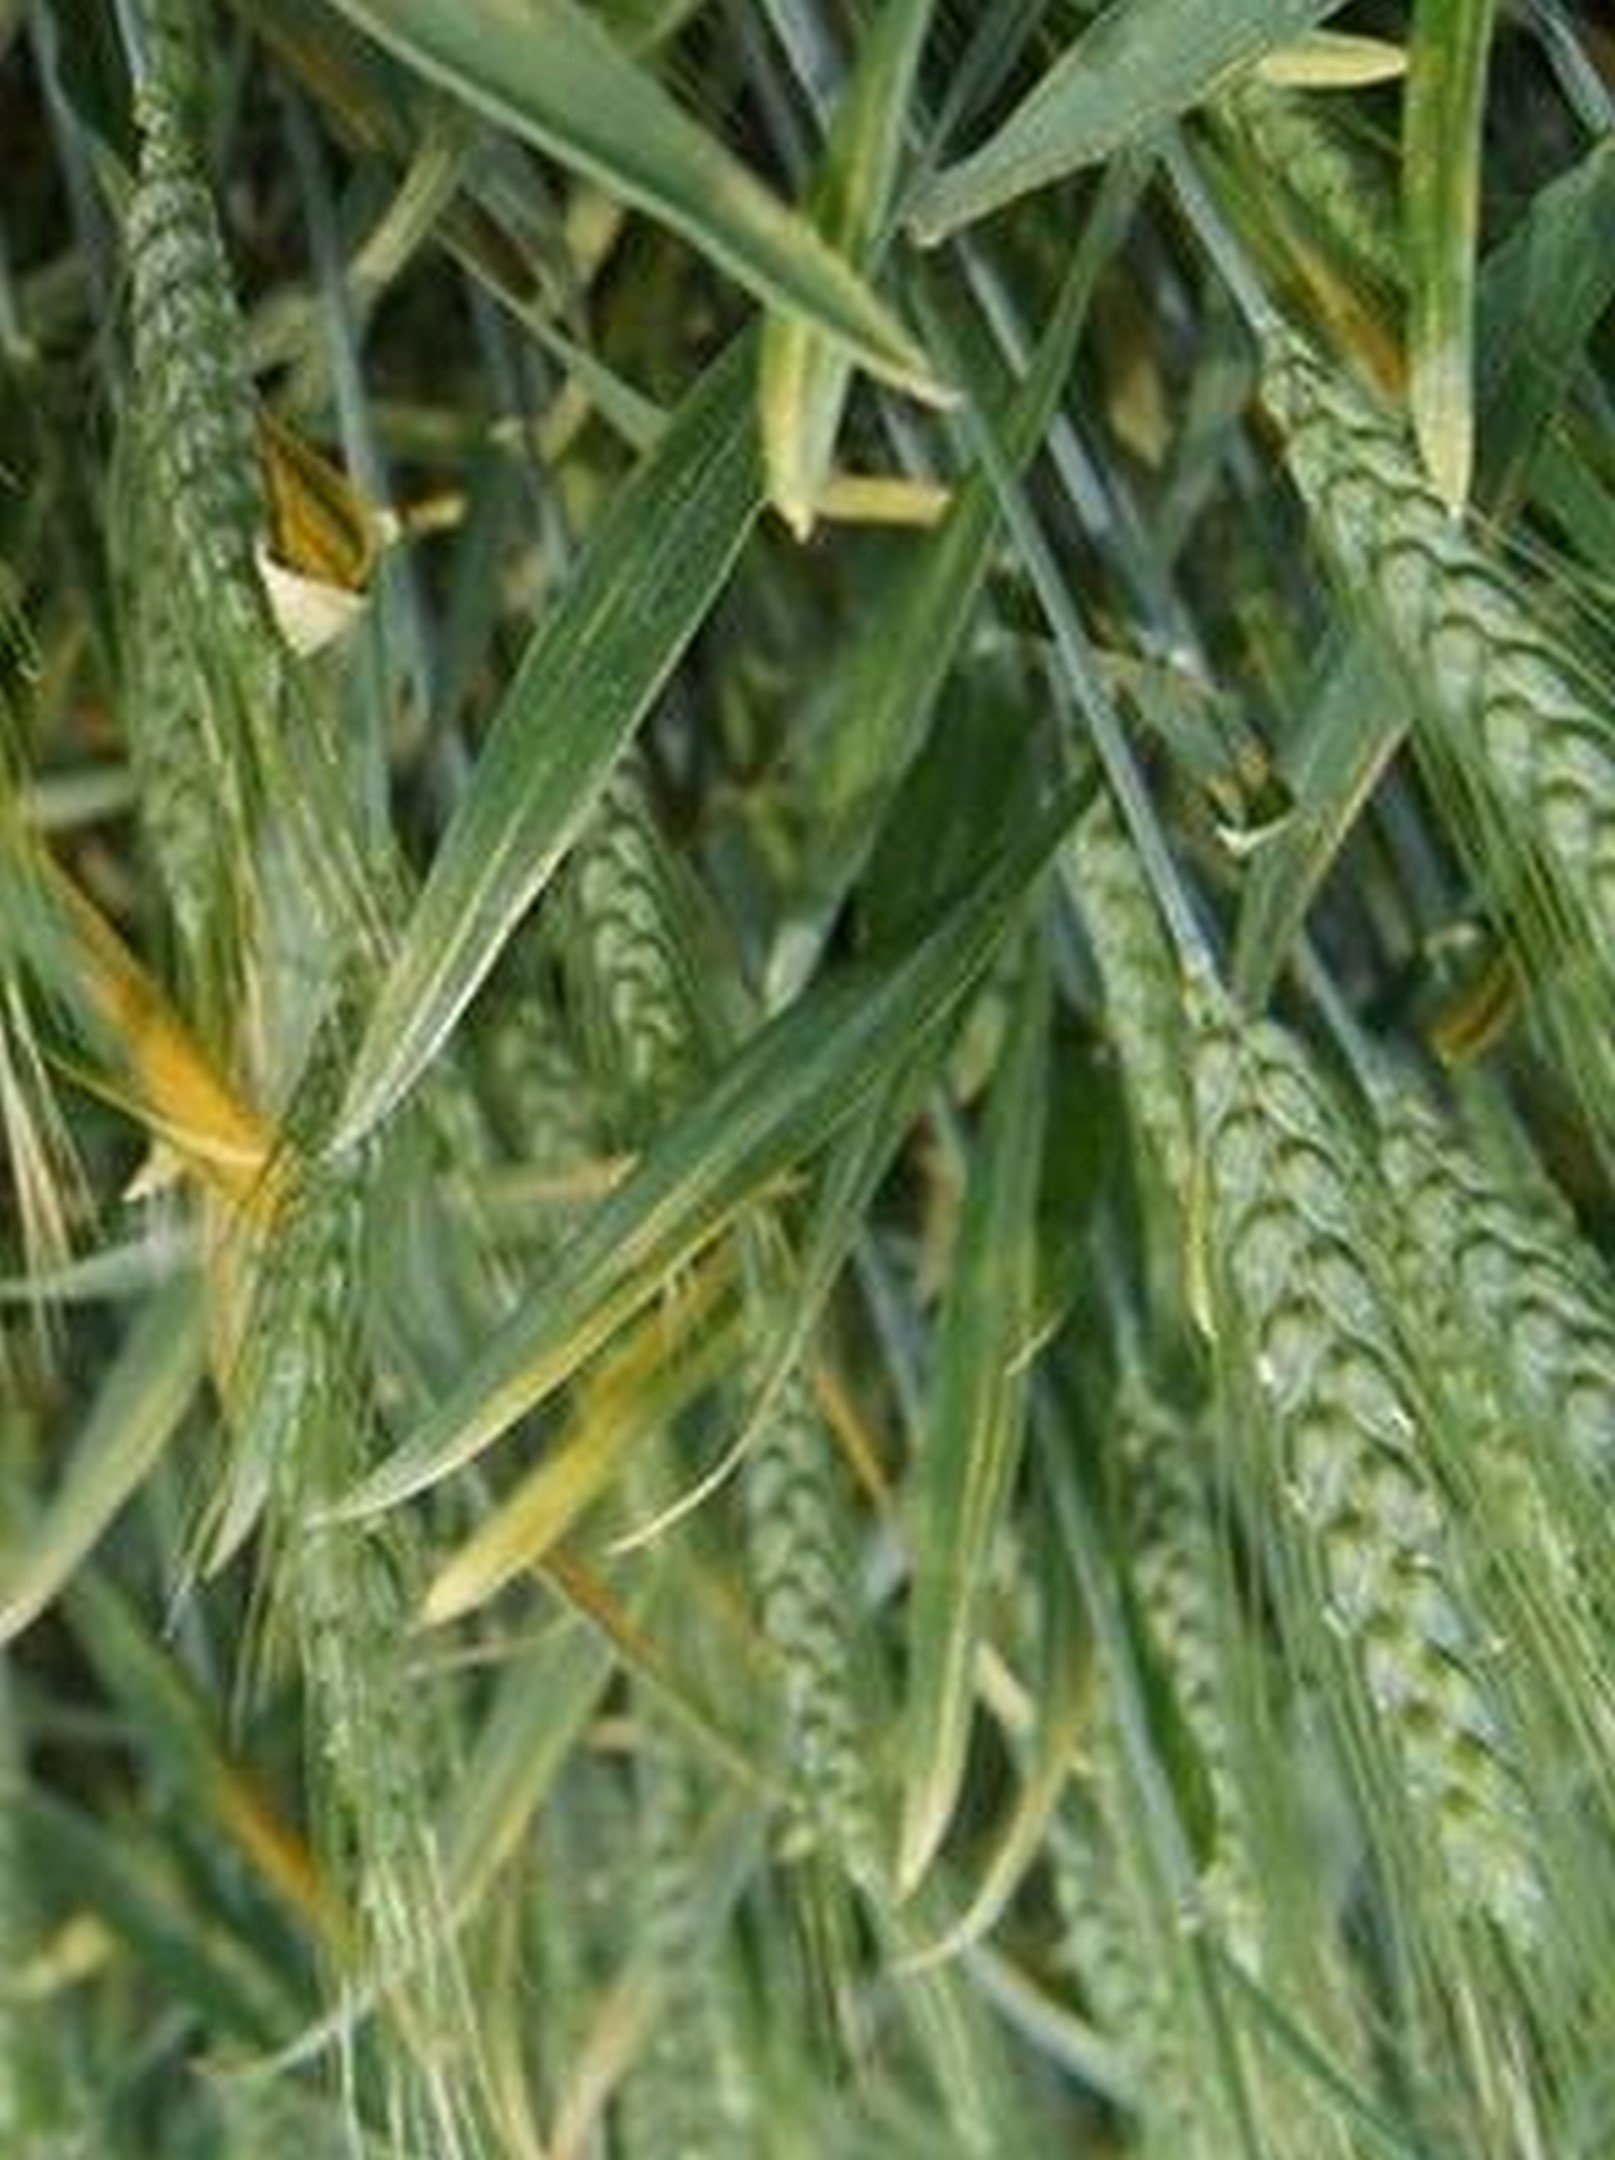Healthy Wheat: (1159, 984, 1578, 1907)
